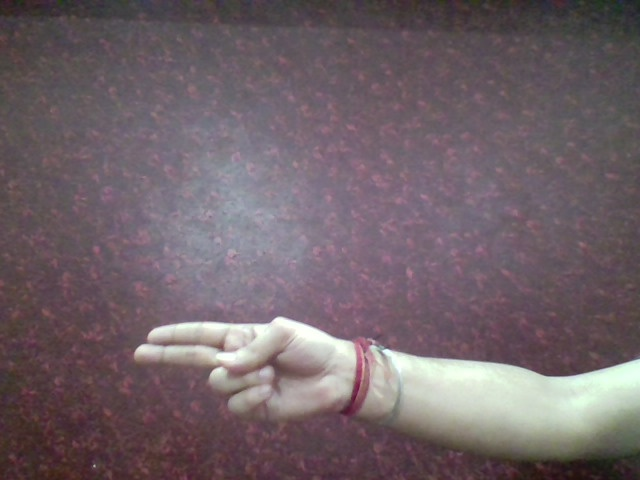h: (124, 308, 347, 437)
